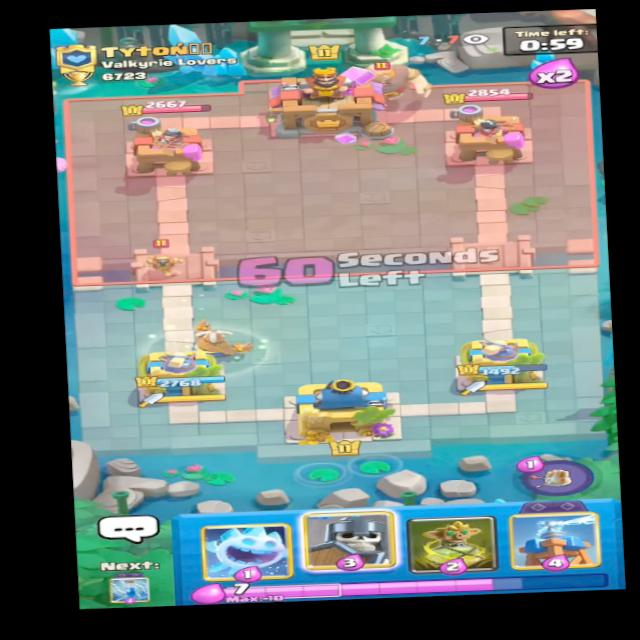giant: (336, 56, 447, 106)
wizard: (134, 238, 181, 277)
